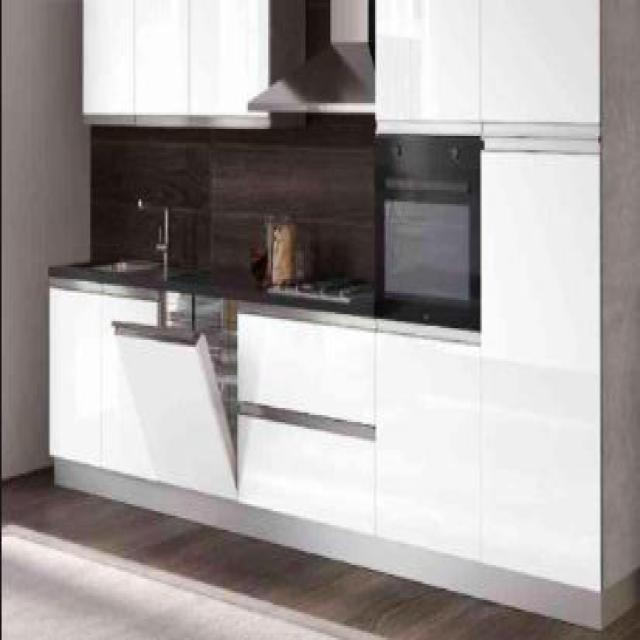dishwasher: (110, 286, 240, 499)
